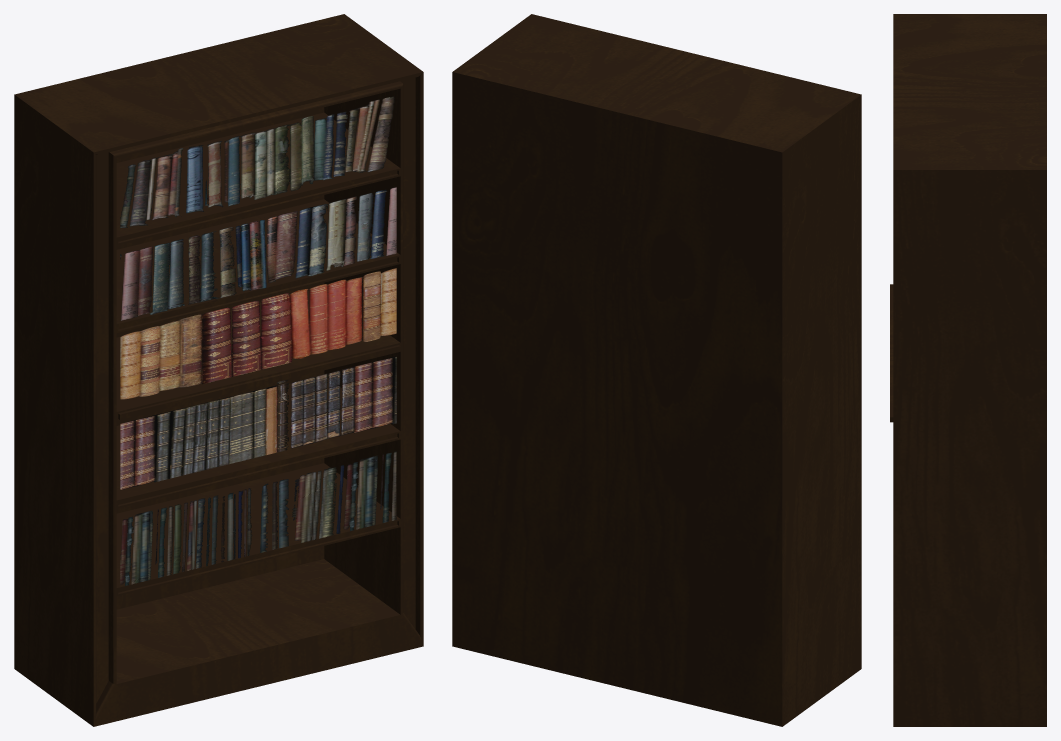
File: Bookcase.obj
3 renders of one model, left to right at view 1: azimuth 30°, elevation 25°; view 2: azimuth 150°, elevation 25°; view 3: azimuth 270°, elevation 25°, orthographic. The views are drawn at different scales.
Visible parts, largest first — view 1: Bookcase_Cube, Books3_Plane.003, Books4_Plane.004, Books2_Plane.002, Books1_Plane.001, Books5_Plane.005; view 2: Bookcase_Cube; view 3: Bookcase_Cube.
Part boxes in pixels (<box>): Bookcase_Cube: <box>14,14,423,726</box>; Books3_Plane.003: <box>120,268,396,399</box>; Books4_Plane.004: <box>120,356,396,490</box>; Books2_Plane.002: <box>120,187,396,320</box>; Books1_Plane.001: <box>120,96,394,227</box>; Books5_Plane.005: <box>120,451,396,585</box>; Bookcase_Cube: <box>452,14,861,726</box>; Bookcase_Cube: <box>890,14,1046,726</box>.
Size of the model in its own units: 1.2 by 2 by 0.51.
1 material, 1 textured.
